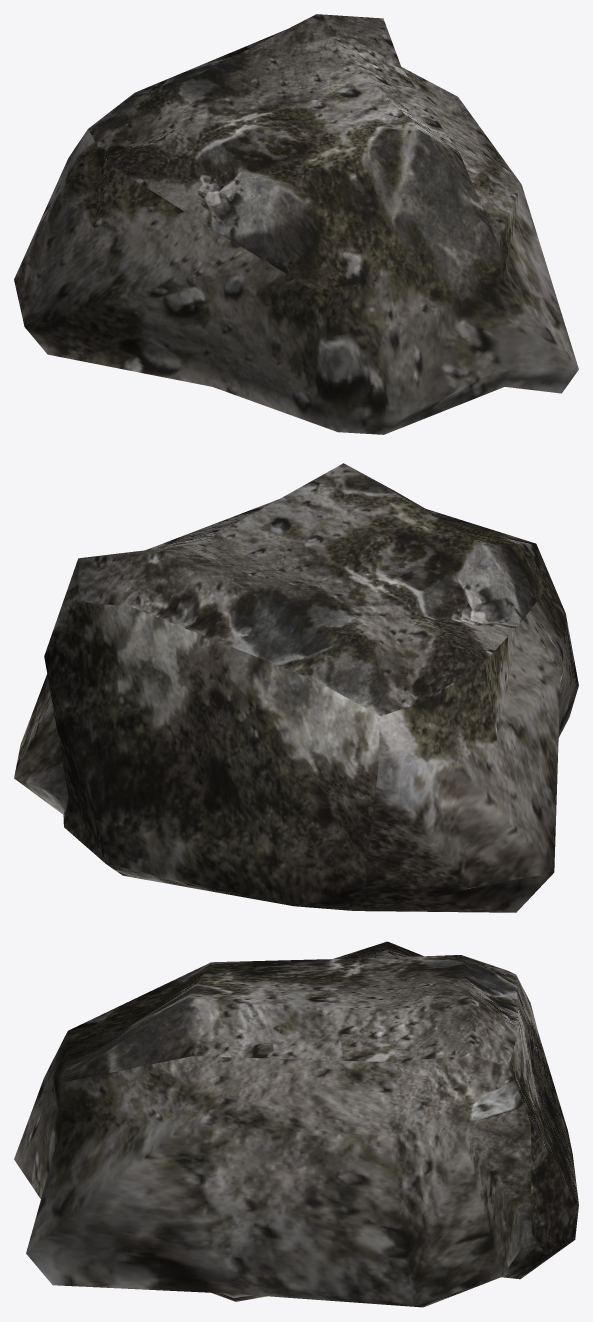
The model's file is rocks_1.fbx.
3 renders of one model, top to bottom at view 1: azimuth 30°, elevation 25°; view 2: azimuth 150°, elevation 25°; view 3: azimuth 270°, elevation 25°, orthographic. The views are drawn at different scales.
Parts seen in each view (by area): view 1: Rock1_Cube; view 2: Rock1_Cube; view 3: Rock1_Cube.
Boxes of the visible parts, bbox=[...] form: Rock1_Cube: bbox=[14, 14, 578, 434]; Rock1_Cube: bbox=[14, 463, 578, 912]; Rock1_Cube: bbox=[14, 941, 578, 1307].
Size of the model in its own units: 492 by 281 by 492.
1 material, 1 textured.
